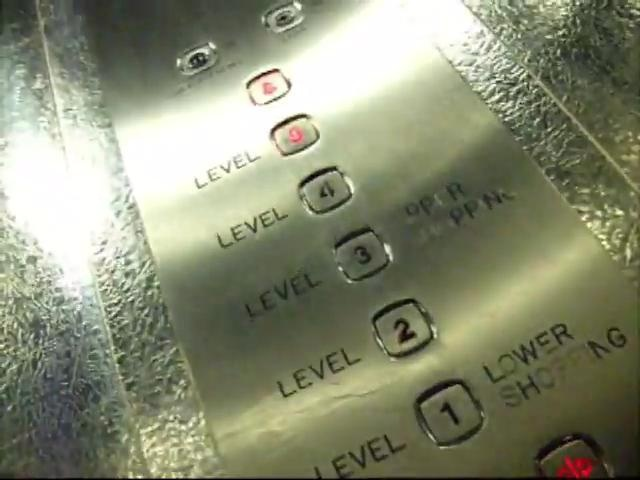1: (411, 375, 486, 450)
2: (371, 294, 440, 360)
3: (330, 226, 390, 287)
4: (298, 167, 354, 216)
5: (267, 111, 321, 157)
alarm: (244, 64, 294, 107)
keyhole: (262, 2, 306, 37), (176, 42, 221, 76)
